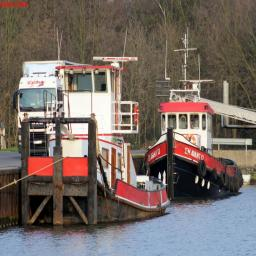tugboat: (20, 56, 172, 235), (144, 78, 248, 207)
